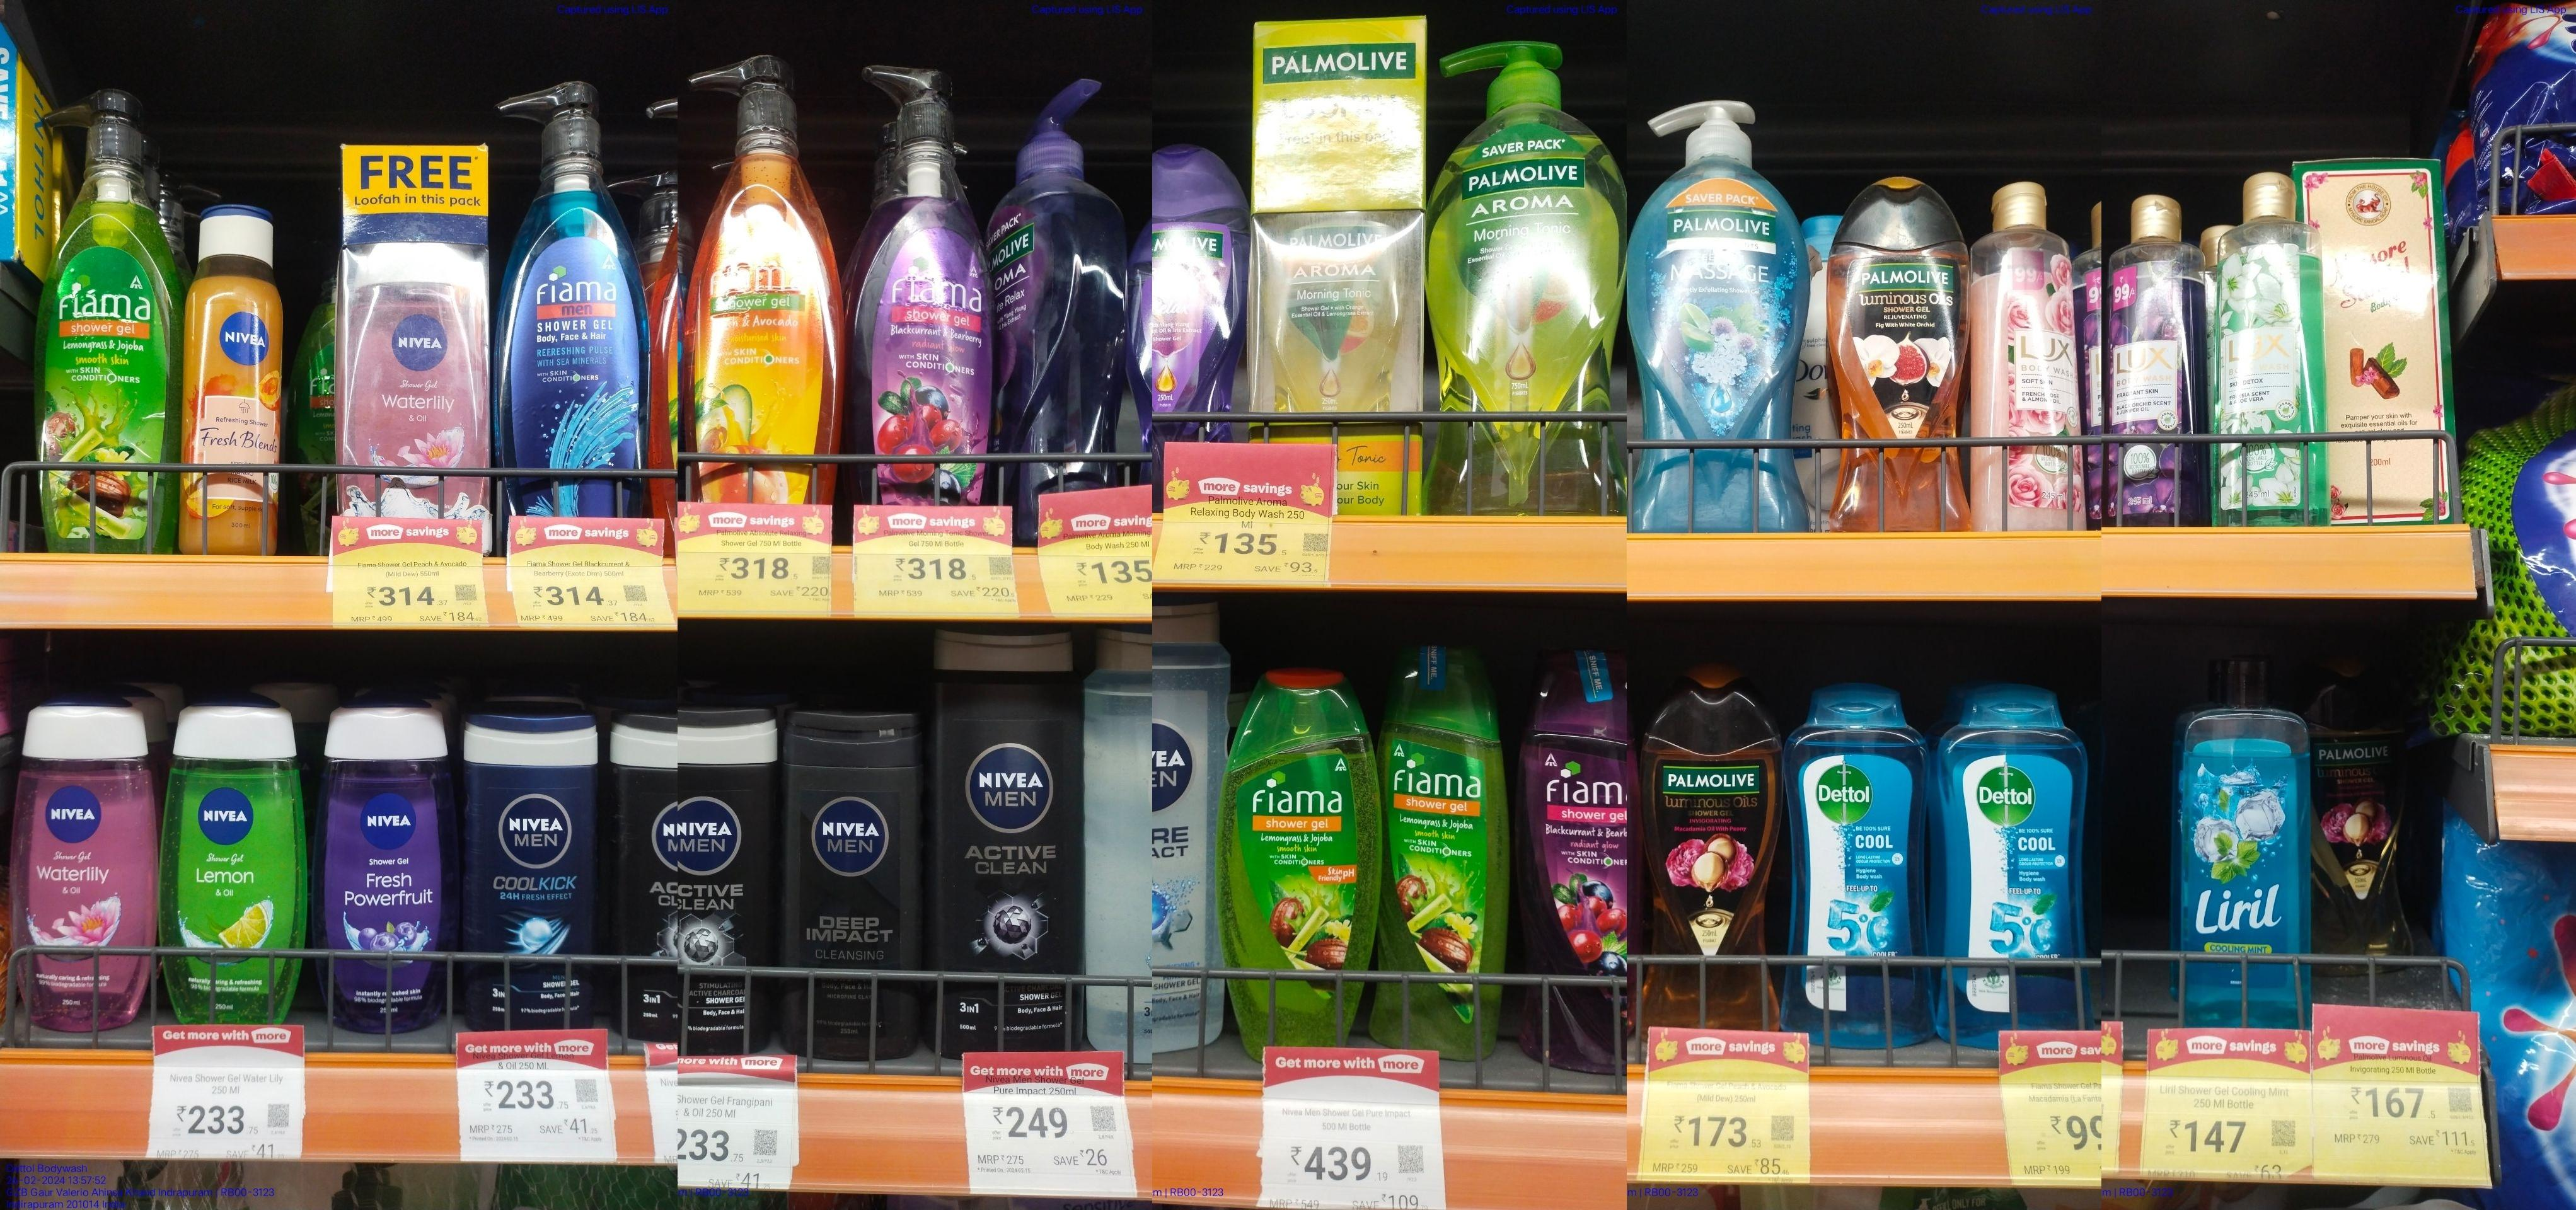Dettol_Bodywash_Cool: (1929, 680, 2088, 1043), (1787, 686, 1927, 1047)
Fiama_Shower_Gel_Lemongrass_and_Jojoba_250ML: (1216, 665, 1387, 1056), (1390, 634, 1507, 1061)
Lux_Black_Orchid_Scent_and_Juniper_Oil_Body_Wash_245ML: (2106, 189, 2203, 524)
Lux_Body_Wash_Skin_Detox_Freesia_Scent_and_Alove_Vera_245ML: (2201, 167, 2331, 532)
Nivea_Shower_Gel_Fresh_Powerfruit_250ML: (312, 696, 452, 1034)
Nivea_Shower_Gel_Lemon_and_Oil_250ML: (163, 696, 307, 1021)
Nivea_Shower_Gel_Waterlily_and_Oil_250ML: (10, 694, 154, 1034)
Palmolive_Luminous_Oils_Invigorating_Macadamia_Oil_With_Peony_250ML: (1649, 655, 1784, 1031)
Palmolive_Luminous_Oils_With_White_Orchid_Shower_Gel_250ML: (1835, 172, 1960, 530)
